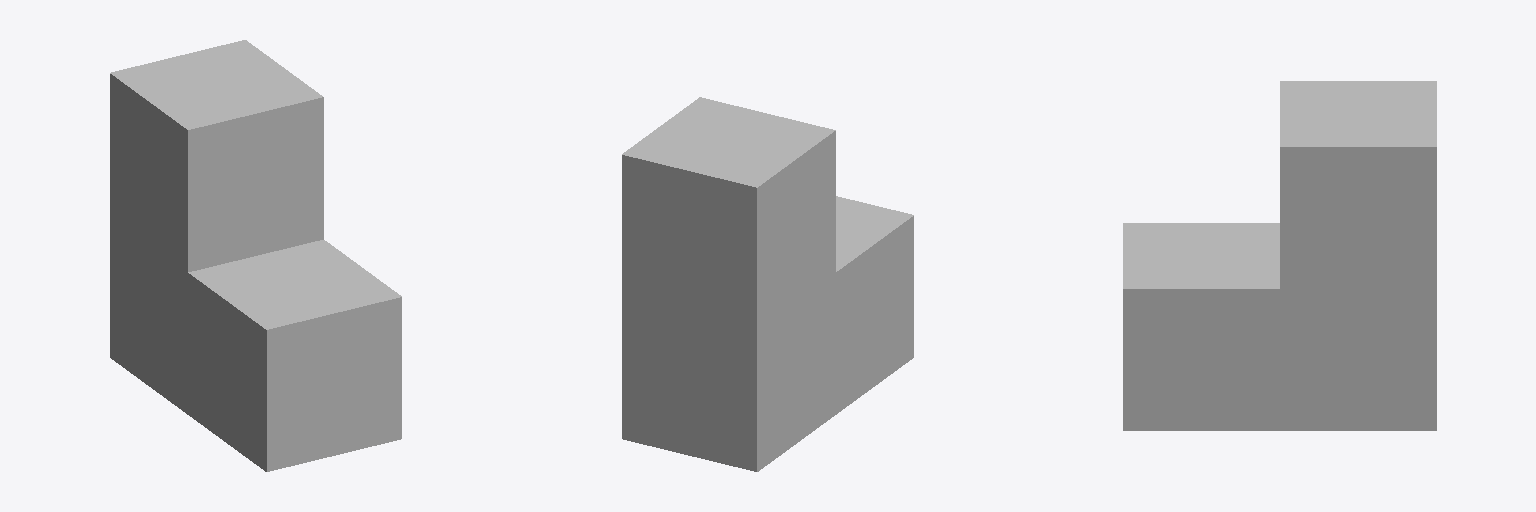
Rendered from bunnyfrontleg.obj.
The picture shows the model from 3 angles: view 1: azimuth 30°, elevation 25°; view 2: azimuth 150°, elevation 25°; view 3: azimuth 270°, elevation 25°; orthographic projection.
Visible parts, largest first — view 1: Bunny; view 2: Bunny; view 3: Bunny.
Boxes of the visible parts, x1,y1,x2,y2 form: Bunny: [110, 40, 401, 471]; Bunny: [622, 97, 913, 471]; Bunny: [1123, 81, 1436, 430].
Bounding box in the file's own units: 1 × 2 × 2.